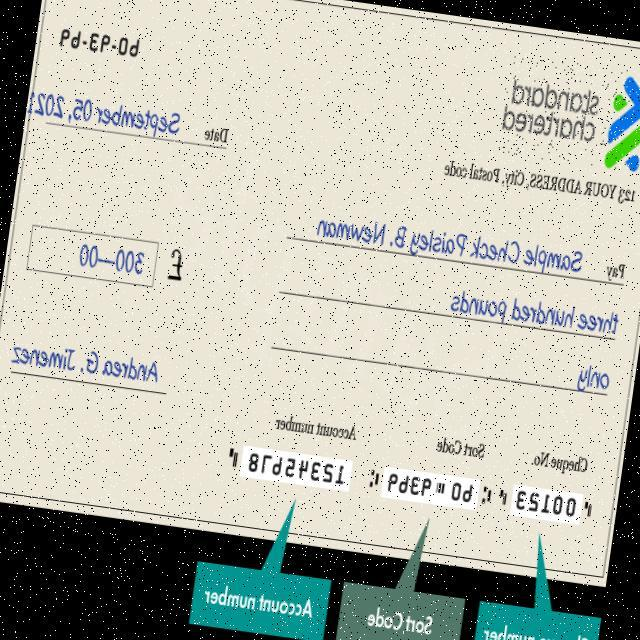Standard Chartered: (495, 53, 640, 173)
